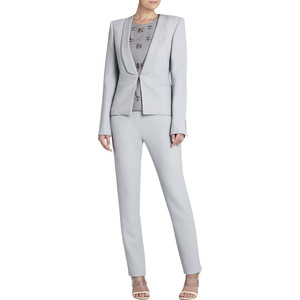C_W_pants: (99, 119, 205, 276)
C_sandals: (122, 270, 203, 300)
S_business casual jacket: (94, 11, 194, 124)
